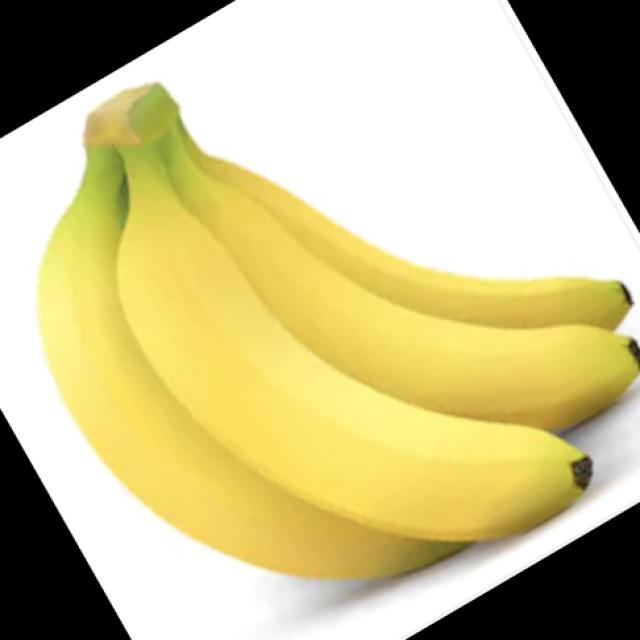god quality banana: (37, 83, 640, 579)
